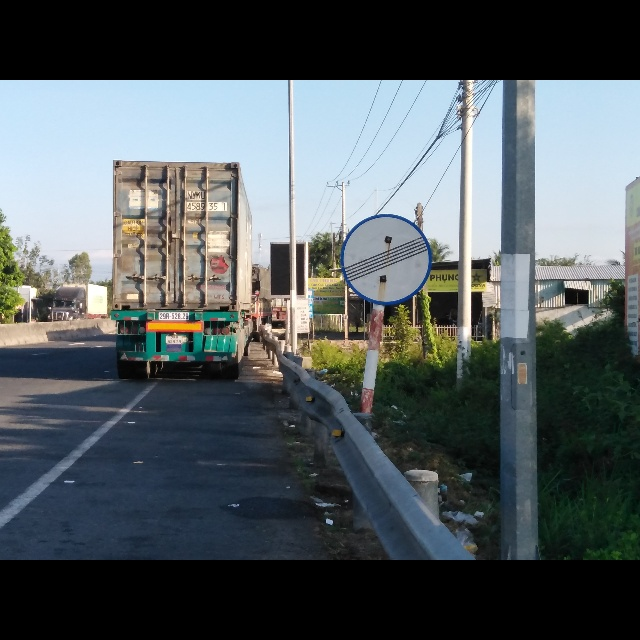Hết tất cả các lệnh cấm: (335, 213, 434, 309)
